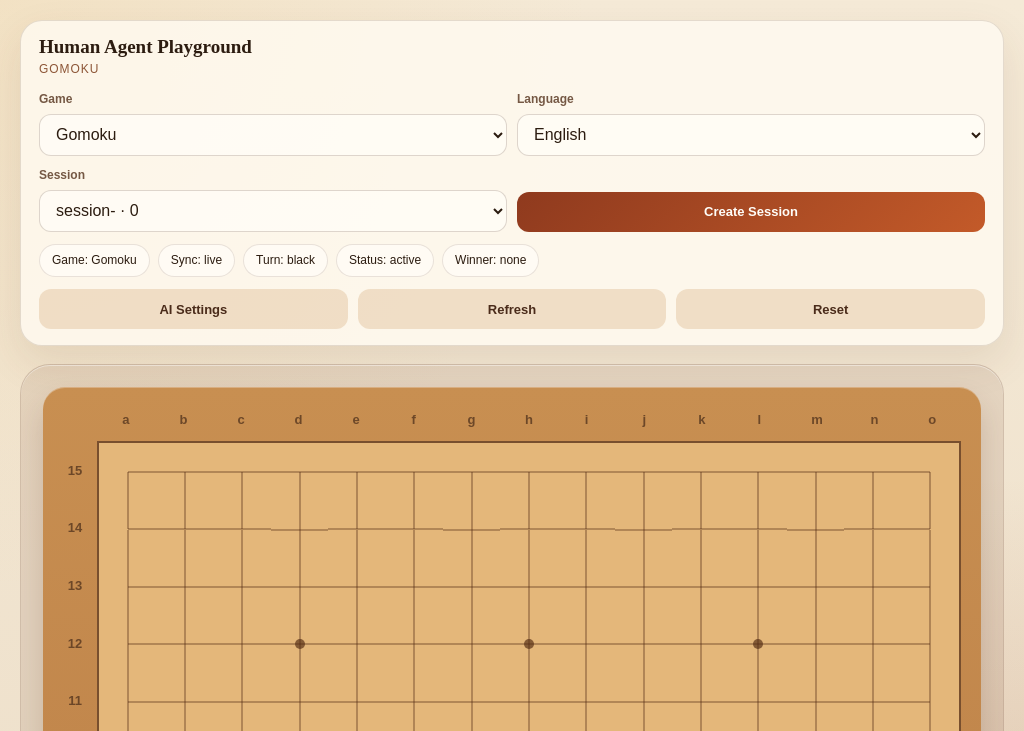
Scenario: App › moves refresh and reset controls into the header toolbar
Expected: the button "Reset" is shown, [676,290,985,330]
Expected: the header with class "app-chrome" is shown, [20,20,1004,346]
Click the button "Refresh": (512, 310) [358,290,666,330]
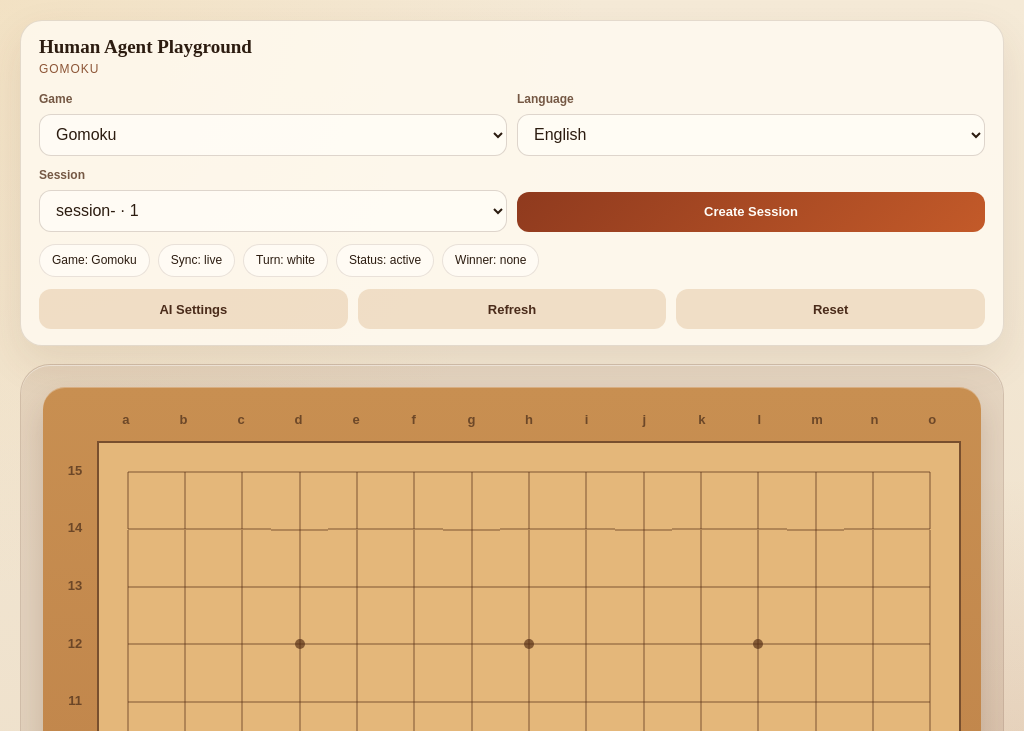
Click the button "Reset": (831, 310) [676,290,985,330]
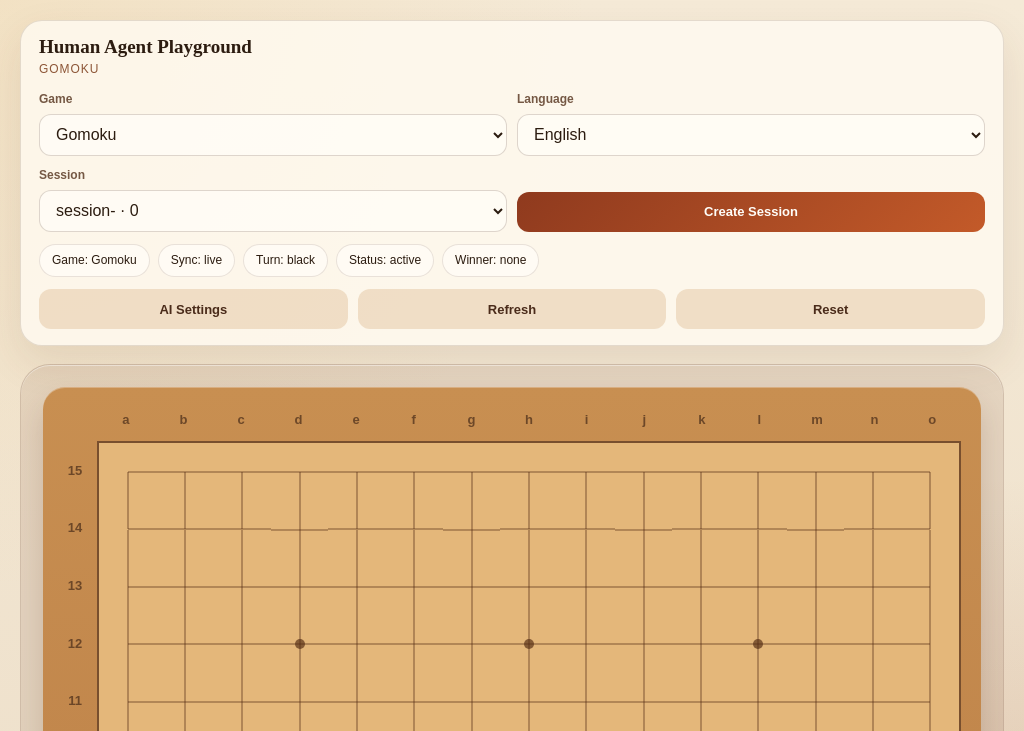
Expected: the text "Turn: black" is shown, [243,244,328,278]
